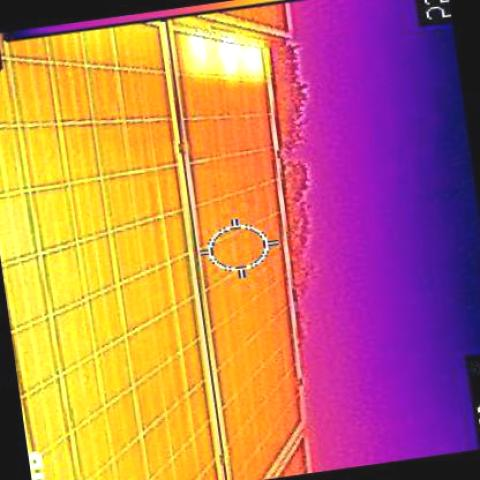fault: (176, 33, 264, 74)
